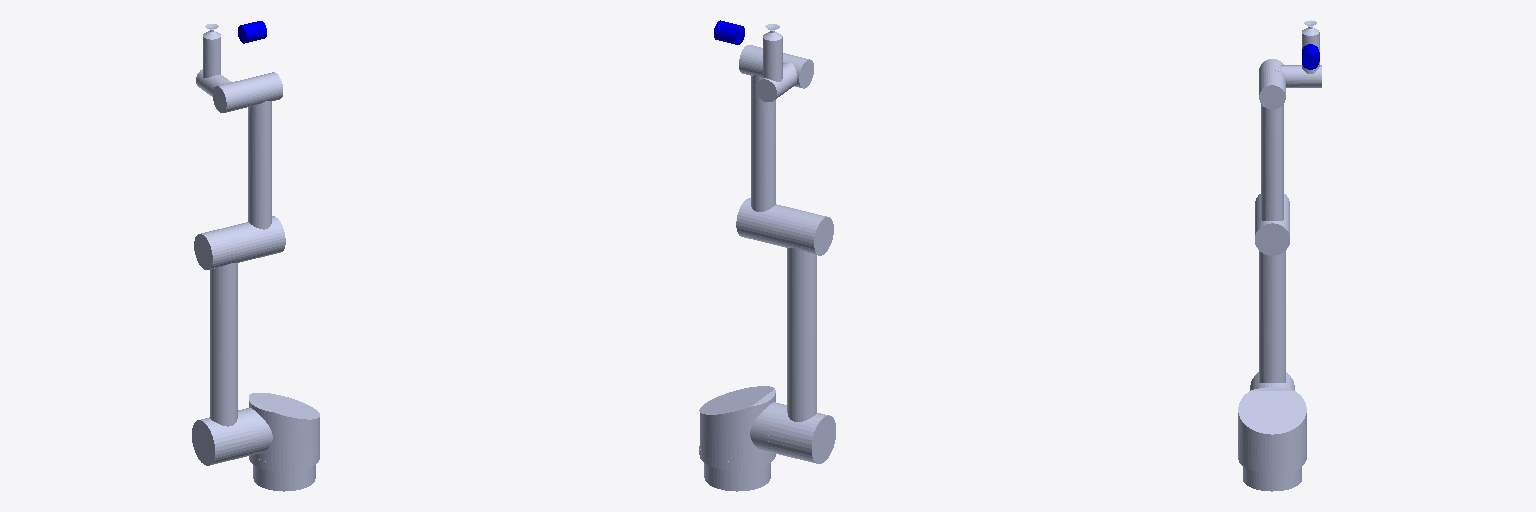
robot.urdf — handler:
<?xml version="1.0" encoding="utf-8"?>
<!-- This URDF was automatically created by SolidWorks to URDF Exporter! Originally created by [author] ([email redacted]) 
     Commit Version: 1.6.0-4-g7f85cfe  Build Version: 1.6.7995.38578
     For more information, please see http://wiki.ros.org/sw_urdf_exporter -->
<robot
  name="handler">
  <link
    name="base_link">
    <inertial>
      <origin
        xyz="2.988E-34 -0.017081 3.8741E-19"
        rpy="0 0 0" />
      <mass
        value="0.92342" />
      <inertia
        ixx="0.0014784"
        ixy="-1.0796E-35"
        ixz="1.5674E-35"
        iyy="0.0023047"
        iyz="-1.9374E-20"
        izz="0.0014784" />
    </inertial>
    <visual>
      <origin
        xyz="0 0 0"
        rpy="0 0 0" />
      <geometry>
        <mesh
          filename="package://handler/meshes/base_link.STL" />
      </geometry>
      <material
        name="">
        <color
          rgba="0.79216 0.81961 0.93333 1" />
      </material>
    </visual>
    <collision>
      <origin
        xyz="0 0 0"
        rpy="0 0 0" />
      <geometry>
        <mesh
          filename="package://handler/meshes/base_link.STL" />
      </geometry>
    </collision>
  </link>
  <link
    name="L1">
    <inertial>
      <origin
        xyz="-0.010562 0.058034 2.1487E-08"
        rpy="0 0 0" />
      <mass
        value="2.1518" />
      <inertia
        ixx="0.0052232"
        ixy="0.0006223"
        ixz="-3.1183E-09"
        iyy="0.0067656"
        iyz="5.2126E-09"
        izz="0.0060009" />
    </inertial>
    <visual>
      <origin
        xyz="0 0 0"
        rpy="0 0 0" />
      <geometry>
        <mesh
          filename="package://handler/meshes/L1.STL" />
      </geometry>
      <material
        name="">
        <color
          rgba="0.79216 0.81961 0.93333 1" />
      </material>
    </visual>
    <collision>
      <origin
        xyz="0 0 0"
        rpy="0 0 0" />
      <geometry>
        <mesh
          filename="package://handler/meshes/L1.STL" />
      </geometry>
    </collision>
  </link>
  <joint
    name="J1"
    type="revolute">
    <origin
      xyz="0 0 0.01"
      rpy="1.5708 0 0" />
    <parent
      link="base_link" />
    <child
      link="L1" />
    <axis
      xyz="0 1 0" />
    <limit
      lower="0"
      upper="0"
      effort="0"
      velocity="0" />
    <dynamics
      damping="1"
      friction="1" />
  </joint>
  <link
    name="L2">
    <inertial>
      <origin
        xyz="0.059363 8.6014E-08 -0.19267"
        rpy="0 0 0" />
      <mass
        value="2.3432" />
      <inertia
        ixx="0.077054"
        ixy="4.3641E-10"
        ixz="0.00086007"
        iyy="0.077511"
        iyz="7.6816E-09"
        izz="0.0023404" />
    </inertial>
    <visual>
      <origin
        xyz="0 0 0"
        rpy="0 0 0" />
      <geometry>
        <mesh
          filename="package://handler/meshes/L2.STL" />
      </geometry>
      <material
        name="">
        <color
          rgba="0.79216 0.81961 0.93333 1" />
      </material>
    </visual>
    <collision>
      <origin
        xyz="0 0 0"
        rpy="0 0 0" />
      <geometry>
        <mesh
          filename="package://handler/meshes/L2.STL" />
      </geometry>
    </collision>
  </link>
  <joint
    name="J2"
    type="revolute">
    <origin
      xyz="-0.09 0.07 0"
      rpy="-1.5708 0 3.1416" />
    <parent
      link="L1" />
    <child
      link="L2" />
    <axis
      xyz="1 0 0" />
    <limit
      lower="0"
      upper="0"
      effort="0"
      velocity="0" />
    <dynamics
      damping="1"
      friction="1" />
  </joint>
  <link
    name="L3">
    <inertial>
      <origin
        xyz="-0.029308 0.14601 -1.9972E-07"
        rpy="0 0 0" />
      <mass
        value="1.2035" />
      <inertia
        ixx="0.023041"
        ixy="0.0002755"
        ixz="5.9887E-09"
        iyy="0.00076928"
        iyz="6.6759E-09"
        izz="0.023199" />
    </inertial>
    <visual>
      <origin
        xyz="0 0 0"
        rpy="0 0 0" />
      <geometry>
        <mesh
          filename="package://handler/meshes/L3.STL" />
      </geometry>
      <material
        name="">
        <color
          rgba="0.79216 0.81961 0.93333 1" />
      </material>
    </visual>
    <collision>
      <origin
        xyz="0 0 0"
        rpy="0 0 0" />
      <geometry>
        <mesh
          filename="package://handler/meshes/L3.STL" />
      </geometry>
    </collision>
  </link>
  <joint
    name="J3"
    type="revolute">
    <origin
      xyz="0 0 -0.45"
      rpy="-1.5708 0 0" />
    <parent
      link="L2" />
    <child
      link="L3" />
    <axis
      xyz="1 0 0" />
    <limit
      lower="0"
      upper="0"
      effort="0"
      velocity="0" />
    <dynamics
      damping="1"
      friction="1" />
  </joint>
  <link
    name="L4">
    <inertial>
      <origin
        xyz="0.038122 -6.5766E-09 0.0090201"
        rpy="0 0 0" />
      <mass
        value="0.23425" />
      <inertia
        ixx="0.00015933"
        ixy="3.1181E-11"
        ixz="-3.9672E-06"
        iyy="0.00018421"
        iyz="-1.9002E-11"
        izz="0.0001233" />
    </inertial>
    <visual>
      <origin
        xyz="0 0 0"
        rpy="0 0 0" />
      <geometry>
        <mesh
          filename="package://handler/meshes/L4.STL" />
      </geometry>
      <material
        name="">
        <color
          rgba="0.79216 0.81961 0.93333 1" />
      </material>
    </visual>
    <collision>
      <origin
        xyz="0 0 0"
        rpy="0 0 0" />
      <geometry>
        <mesh
          filename="package://handler/meshes/L4.STL" />
      </geometry>
    </collision>
  </link>
  <joint
    name="J4"
    type="revolute">
    <origin
      xyz="0 0.35 0"
      rpy="0 0 0" />
    <parent
      link="L3" />
    <child
      link="L4" />
    <axis
      xyz="1 0 0" />
    <limit
      lower="0"
      upper="0"
      effort="0"
      velocity="0" />
    <dynamics
      damping="1"
      friction="1" />
  </joint>
  <link
    name="L5">
    <inertial>
      <origin
        xyz="0.027463 -8.8585E-09 -0.033154"
        rpy="0 0 0" />
      <mass
        value="0.20423" />
      <inertia
        ixx="6.697E-05"
        ixy="-1.8659E-10"
        ixz="1.0354E-05"
        iyy="0.0002833"
        iyz="2.5719E-10"
        izz="0.00026912" />
    </inertial>
    <visual>
      <origin
        xyz="0 0 0"
        rpy="0 0 0" />
      <geometry>
        <mesh
          filename="package://handler/meshes/L5.STL" />
      </geometry>
      <material
        name="">
        <color
          rgba="0.79216 0.81961 0.93333 1" />
      </material>
    </visual>
    <collision>
      <origin
        xyz="0 0 0"
        rpy="0 0 0" />
      <geometry>
        <mesh
          filename="package://handler/meshes/L5.STL" />
      </geometry>
    </collision>
  </link>
  <joint
    name="J5"
    type="revolute">
    <origin
      xyz="0.04 0 0.05"
      rpy="3.1416 0 1.5708" />
    <parent
      link="L4" />
    <child
      link="L5" />
    <axis
      xyz="0 0 1" />
    <limit
      lower="0"
      upper="0"
      effort="0"
      velocity="0" />
    <dynamics
      damping="1"
      friction="1" />
  </joint>
  <link
    name="L6">
    <inertial>
      <origin
        xyz="-1.3878E-17 0.01201 8.3267E-17"
        rpy="0 0 0" />
      <mass
        value="0.02287" />
      <inertia
        ixx="3.033E-06"
        ixy="2.7708E-22"
        ixz="6.3545E-37"
        iyy="3.6242E-06"
        iyz="7.5673E-22"
        izz="3.033E-06" />
    </inertial>
    <visual>
      <origin
        xyz="0 0 0"
        rpy="0 0 0" />
      <geometry>
        <mesh
          filename="package://handler/meshes/L6.STL" />
      </geometry>
      <material
        name="">
        <color
          rgba="0.79216 0.81961 0.93333 1" />
      </material>
    </visual>
    <collision>
      <origin
        xyz="0 0 0"
        rpy="0 0 0" />
      <geometry>
        <mesh
          filename="package://handler/meshes/L6.STL" />
      </geometry>
    </collision>
  </link>
  <joint
    name="J6"
    type="revolute">
    <origin
      xyz="0.095 0 -0.035"
      rpy="1.5708 1.5708 0" />
    <parent
      link="L5" />
    <child
      link="L6" />
    <axis
      xyz="0 1 0" />
    <limit
      lower="0"
      upper="0"
      effort="0"
      velocity="0" />
    <dynamics
      damping="1"
      friction="1" />
  </joint>
  <!-- Vacuum gripper for handler -->
  <link name="vacuum_gripper_handler">
    <visual>
      <origin xyz="0 0 0.05" rpy="0 0 0"/>
      <geometry>
        <cylinder length="0.05" radius="0.02"/>
      </geometry>
      <material name="blue">
        <color rgba="0 0 1 1"/>
      </material>
    </visual>
  </link>
  <joint name="vacuum_gripper_handler_joint" type="fixed">
    <parent link="L6"/>
    <child link="vacuum_gripper_handler"/>
    <origin xyz="0 0 0.05" rpy="0 0 0"/>
  </joint>
</robot>

--- Render facts (derived) ---
The picture shows the robot from 3 angles, left to right: view 1: azimuth 30°, elevation 25°; view 2: azimuth 150°, elevation 25°; view 3: azimuth 270°, elevation 25°; orthographic projection.
Model handler with 8 links and 7 joints (6 revolute, 1 fixed), rooted at base_link, posed all joints at 0.
Links seen in each view (by area): view 1: L2, L3, L1, base_link, L4, L5; view 2: L2, L1, L3, base_link, L5, L4, vacuum_gripper_handler; view 3: L1, L3, L2, base_link, L4, L5.
Boxes of the visible links, x1=… form: L2: x1=192, y1=224, x2=255, y2=465; L3: x1=242, y1=72, x2=285, y2=259; L1: x1=241, y1=393, x2=319, y2=463; base_link: x1=249, y1=452, x2=319, y2=491; L4: x1=208, y1=76, x2=250, y2=112; L5: x1=196, y1=41, x2=221, y2=93; L2: x1=768, y1=206, x2=835, y2=463; L1: x1=699, y1=386, x2=783, y2=461; L3: x1=736, y1=45, x2=785, y2=244; base_link: x1=699, y1=446, x2=775, y2=491; L5: x1=756, y1=42, x2=789, y2=101; L4: x1=783, y1=53, x2=813, y2=89; vacuum_gripper_handler: x1=714, y1=20, x2=744, y2=44; L1: x1=1238, y1=387, x2=1306, y2=464; L3: x1=1255, y1=70, x2=1289, y2=255; L2: x1=1250, y1=194, x2=1294, y2=390; base_link: x1=1238, y1=452, x2=1306, y2=491; L4: x1=1259, y1=59, x2=1298, y2=87; L5: x1=1299, y1=36, x2=1321, y2=87.
Size in the robot's own frame: 0.2765 by 0.1865 by 1.06 metres.
Meshes: 7 distinct files referenced, 7 mesh visuals loaded (7 binary STL).